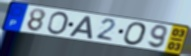2: (93, 18, 118, 44)
8: (26, 8, 47, 32)
9: (146, 24, 169, 50)
A: (67, 15, 93, 40)
O: (122, 22, 148, 47), (45, 11, 70, 36)
